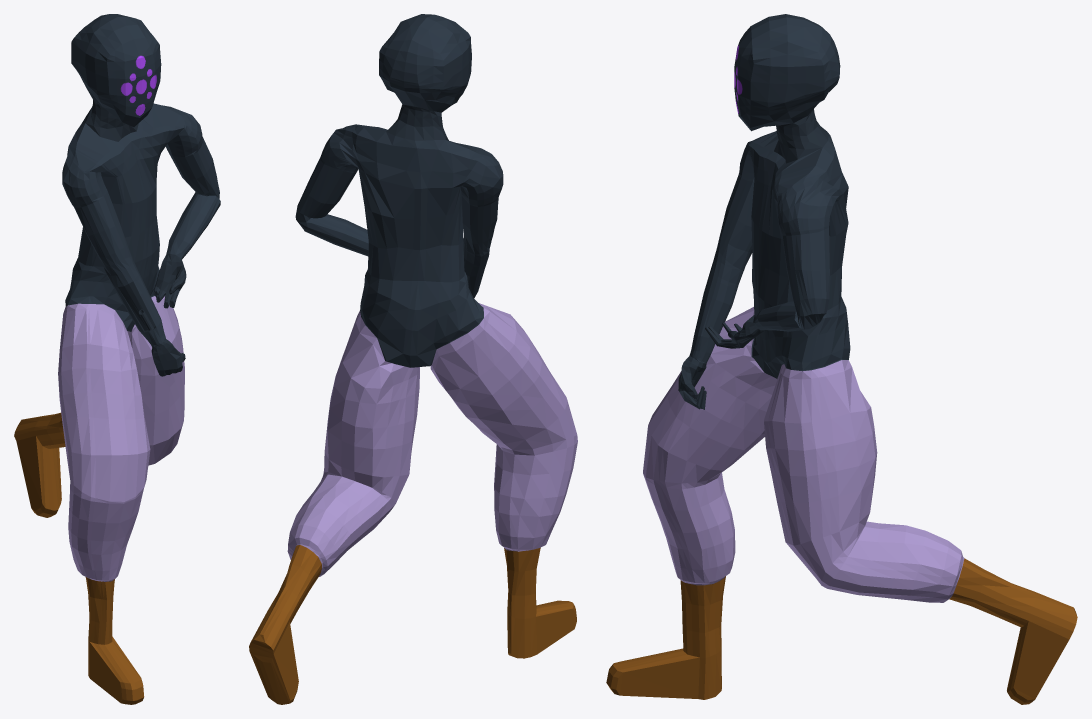
Rendered from Oracle_Run_000015.obj.
The picture shows the model from 3 angles, left to right: view 1: azimuth 30°, elevation 25°; view 2: azimuth 150°, elevation 25°; view 3: azimuth 270°, elevation 25°; orthographic projection. The views are drawn at different scales.
Visible parts, largest first — view 1: Cube; view 2: Cube; view 3: Cube.
Boxes of the visible parts, x1,y1,x2,y2 form: Cube: (14,14,220,704); Cube: (249,14,577,704); Cube: (606,14,1077,704).
Size of the model in its own units: 1.28 by 3.73 by 2.26.
